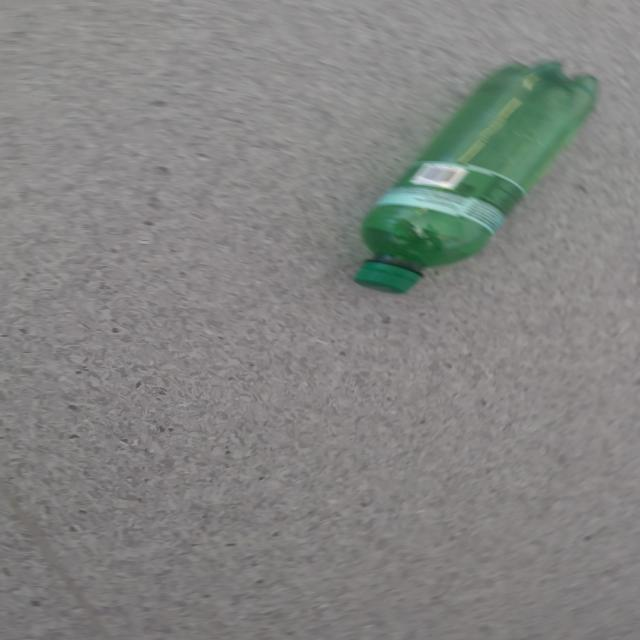bottle: (352, 60, 598, 294)
